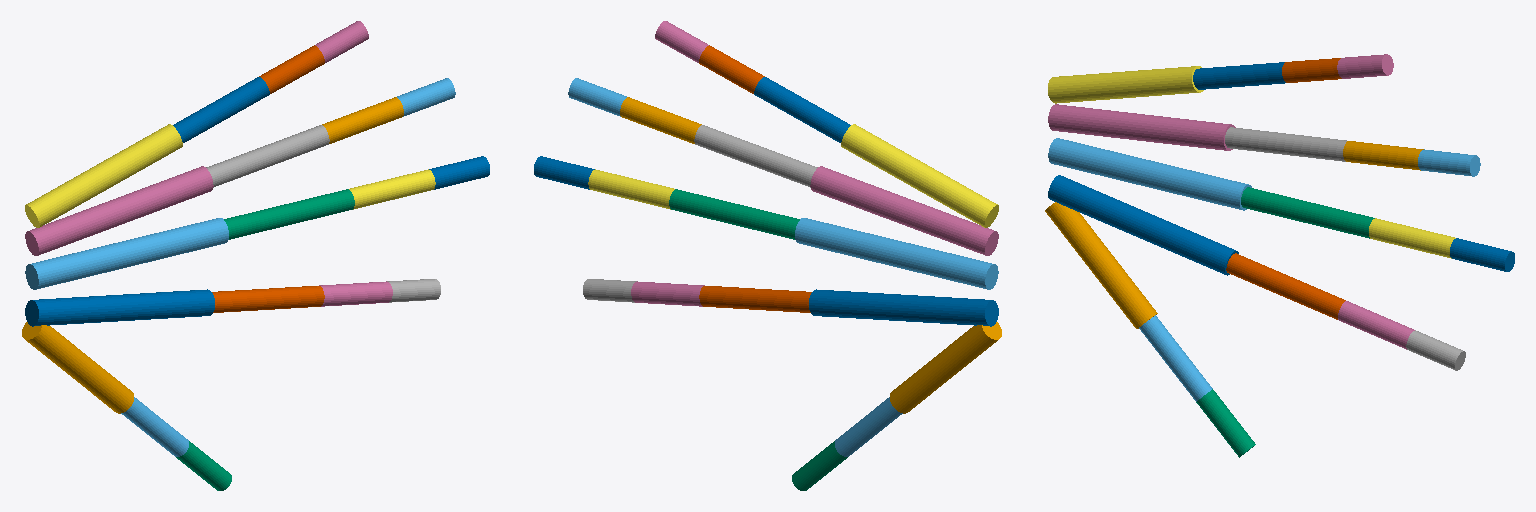
robot.urdf — v6_1_palm_skeleton:
<robot name="v6_1_palm_skeleton">
  <link name="link_0_0">
    <inertial>
      <origin xyz="0.0 1.5544763013660075e-19 0.0175" rpy="0 0 0" />
      <mass value="0.016584660957464963" />
      <inertia ixx="3.7047370331850545e-06" ixy="-9.478111185503441e-25" ixz="7.582488948402753e-24" iyy="3.7047370331850545e-06" iyz="2.9950831346190885e-23" izz="7.782522108814911e-07" />
    </inertial>
  </link>
  <link name="link_palm">
    <inertial>
      <origin xyz="0.0 0.0 0.028999999999999998" rpy="0 0 0" />
      <mass value="0.05103999624967584" />
      <inertia ixx="1.600954459083169e-05" ixy="0.0" ixz="0.0" iyy="2.1113543987632717e-05" iyz="-2.426396463488881e-22" izz="8.50666566133504e-06" />
    </inertial>
  </link>
  <joint name="link_0_0_to_link_palm" type="fixed">
    <parent link="link_0_0" />
    <child link="link_palm" />
    <origin xyz="0.0 0.0 0.0" rpy="0.0 0.0 0.0" />
  </joint>
  <link name="diagnostic_world">
    <inertial>
      <mass value="0.05" />
      <inertia ixx="0.00001" iyy="0.00001" izz="0.00001" ixy="0" ixz="0" iyz="0" />
    </inertial>
  </link>
  <link name="diagnostic_stage_x">
    <inertial>
      <mass value="0.05" />
      <inertia ixx="0.00001" iyy="0.00001" izz="0.00001" ixy="0" ixz="0" iyz="0" />
    </inertial>
  </link>
  <link name="diagnostic_stage_y">
    <inertial>
      <mass value="0.05" />
      <inertia ixx="0.00001" iyy="0.00001" izz="0.00001" ixy="0" ixz="0" iyz="0" />
    </inertial>
  </link>
  <joint name="diagnostic_wrist_x" type="prismatic">
    <parent link="diagnostic_world" />
    <child link="diagnostic_stage_x" />
    <origin xyz="0 0 0" rpy="0 0 0" />
    <axis xyz="1 0 0" />
    <limit lower="-0.25" upper="0.25" effort="100" velocity="0.02" />
  </joint>
  <joint name="diagnostic_wrist_y" type="prismatic">
    <parent link="diagnostic_stage_x" />
    <child link="diagnostic_stage_y" />
    <origin xyz="0 0 0" rpy="0 0 0" />
    <axis xyz="0 1 0" />
    <limit lower="-0.25" upper="0.25" effort="100" velocity="0.02" />
  </joint>
  <joint name="diagnostic_wrist_z" type="prismatic">
    <parent link="diagnostic_stage_y" />
    <child link="wrist_translation_end" />
    <origin xyz="0 0 0" rpy="0 0 0" />
    <axis xyz="0 0 1" />
    <limit lower="-0.25" upper="0.25" effort="100" velocity="0.02" />
  </joint>
  <link name="wrist_translation_end">
    <inertial>
      <mass value=".02" />
      <inertia ixx="8e-7" iyy="8e-7" izz="8e-7" ixy="0" ixz="0" iyz="0" />
    </inertial>
  </link>
  <link name="wrist_roll_link">
    <inertial>
      <mass value=".02" />
      <inertia ixx="8e-7" iyy="8e-7" izz="8e-7" ixy="0" ixz="0" iyz="0" />
    </inertial>
  </link>
  <link name="wrist_pitch_link">
    <inertial>
      <mass value=".02" />
      <inertia ixx="8e-7" iyy="8e-7" izz="8e-7" ixy="0" ixz="0" iyz="0" />
    </inertial>
  </link>
  <joint name="wrist_roll" type="revolute">
    <parent link="wrist_translation_end" />
    <child link="wrist_roll_link" />
    <origin xyz="0 0 0" rpy="0 0 0" />
    <axis xyz="1 0 0" />
    <limit lower="-3.141592653589793" upper="3.141592653589793" effort="2" velocity="1" />
  </joint>
  <joint name="wrist_pitch" type="revolute">
    <parent link="wrist_roll_link" />
    <child link="wrist_pitch_link" />
    <origin xyz="0 0 0" rpy="0 0 0" />
    <axis xyz="0 1 0" />
    <limit lower="-3.141592653589793" upper="3.141592653589793" effort="2" velocity="1" />
  </joint>
  <joint name="wrist_yaw" type="revolute">
    <parent link="wrist_pitch_link" />
    <child link="link_0_0" />
    <origin xyz="0 0 0" rpy="0 0 0" />
    <axis xyz="0 0 1" />
    <limit lower="-3.141592653589793" upper="3.141592653589793" effort="2" velocity="1" />
  </joint>
  <link name="link_1_0">
    <inertial>
      <origin xyz="0 0 0.0225" rpy="0 0 0" />
      <mass value="0.0024881392799999996" />
      <inertia ixx="4.298260606199999e-07" iyy="4.298260606199999e-07" izz="1.9905114239999995e-08" ixy="0" ixz="0" iyz="0" />
    </inertial>
    <visual>
      <origin xyz="0 0 0.0225" rpy="0 0 0" />
      <geometry>
        <cylinder length="0.045" radius="0.004" />
      </geometry>
    </visual>
    <collision>
      <origin xyz="0 0 0.0225" rpy="0 0 0" />
      <geometry>
        <cylinder length="0.045" radius="0.004" />
      </geometry>
    </collision>
  </link>
  <joint name="arch_1" type="revolute">
    <parent link="link_palm" />
    <child link="link_1_0" />
    <origin xyz="-0.012 0 -0.011" rpy="0 2.356194490192345 0" />
    <axis xyz="-0.7071067811865475 0 0.7071067811865476" /><limit lower="-.16" upper=".72" effort="1" velocity="3" /></joint>
  <link name="link_1_1">
    <inertial>
      <origin xyz="0 0 0.014" rpy="0 0 0" />
      <mass value="0.0009908323532800002" />
      <inertia ixx="6.727091123869015e-08" iyy="6.727091123869015e-08" izz="5.073061648793601e-09" ixy="0" ixz="0" iyz="0" />
    </inertial>
    <visual>
      <origin xyz="0 0 0.014" rpy="0 0 0" />
      <geometry>
        <cylinder length="0.028" radius="0.0032" />
      </geometry>
    </visual>
    <collision>
      <origin xyz="0 0 0.014" rpy="0 0 0" />
      <geometry>
        <cylinder length="0.028" radius="0.0032" />
      </geometry>
    </collision>
  </link>
  <joint name="digit_1_flex_1" type="revolute">
    <parent link="link_1_0" />
    <child link="link_1_1" />
    <origin xyz="0 0 0.045" rpy="0 0 0" />
    <axis xyz="1 0 0" />
    <limit lower="0" upper="1.5" effort="0.8" velocity="2" />
  </joint>
  <link name="link_1_2">
    <inertial>
      <origin xyz="0 0 0.0105" rpy="0 0 0" />
      <mass value="0.0007431242649600001" />
      <inertia ixx="2.9212214855577606e-08" iyy="2.9212214855577606e-08" izz="3.8047962365952e-09" ixy="0" ixz="0" iyz="0" />
    </inertial>
    <visual>
      <origin xyz="0 0 0.0105" rpy="0 0 0" />
      <geometry>
        <cylinder length="0.021" radius="0.0032" />
      </geometry>
    </visual>
    <collision>
      <origin xyz="0 0 0.0105" rpy="0 0 0" />
      <geometry>
        <cylinder length="0.021" radius="0.0032" />
      </geometry>
    </collision>
  </link>
  <joint name="digit_1_flex_2" type="revolute">
    <parent link="link_1_1" />
    <child link="link_1_2" />
    <origin xyz="0 0 0.028" rpy="0 0 0" />
    <axis xyz="1 0 0" />
    <limit lower="0" upper="1.5" effort="0.8" velocity="2" />
  </joint>
  <link name="tip_1" />
  <joint name="tip_1_marker" type="fixed">
    <parent link="link_1_2" />
    <child link="tip_1" />
    <origin xyz="0 0 0.021" rpy="0 0 0" />
  </joint>
  <link name="link_2_0">
    <inertial>
      <origin xyz="0 0 0.031" rpy="0 0 0" />
      <mass value="0.0034281030079999996" />
      <inertia ixx="1.1118480755946664e-06" iyy="1.1118480755946664e-06" izz="2.7424824063999996e-08" ixy="0" ixz="0" iyz="0" />
    </inertial>
    <visual>
      <origin xyz="0 0 0.031" rpy="0 0 0" />
      <geometry>
        <cylinder length="0.062" radius="0.004" />
      </geometry>
    </visual>
    <collision>
      <origin xyz="0 0 0.031" rpy="0 0 0" />
      <geometry>
        <cylinder length="0.062" radius="0.004" />
      </geometry>
    </collision>
  </link>
  <joint name="arch_2" type="revolute">
    <parent link="link_palm" />
    <child link="link_2_0" />
    <origin xyz="-0.012 0 -0.006" rpy="0 1.7453292519943295 0" />
  <axis xyz="-0.3420201433256687 0 0.9396926207859084" /><limit lower="-.16" upper=".72" effort="1" velocity="3" /></joint>
  <link name="link_2_1">
    <inertial>
      <origin xyz="0 0 0.0195" rpy="0 0 0" />
      <mass value="0.0013800879206400001" />
      <inertia ixx="1.7845916901795842e-07" iyy="1.7845916901795842e-07" izz="7.066050153676801e-09" ixy="0" ixz="0" iyz="0" />
    </inertial>
    <visual>
      <origin xyz="0 0 0.0195" rpy="0 0 0" />
      <geometry>
        <cylinder length="0.039" radius="0.0032" />
      </geometry>
    </visual>
    <collision>
      <origin xyz="0 0 0.0195" rpy="0 0 0" />
      <geometry>
        <cylinder length="0.039" radius="0.0032" />
      </geometry>
    </collision>
  </link>
  <joint name="digit_2_flex_1" type="revolute">
    <parent link="link_2_0" />
    <child link="link_2_1" />
    <origin xyz="0 0 0.062" rpy="0 0 0" />
    <axis xyz="1 0 0" />
    <limit lower="0" upper="1.5" effort="0.8" velocity="2" />
  </joint>
  <link name="link_2_2">
    <inertial>
      <origin xyz="0 0 0.012" rpy="0 0 0" />
      <mass value="0.00084928487424" />
      <inertia ixx="4.2939843241574404e-08" iyy="4.2939843241574404e-08" izz="4.3483385561088e-09" ixy="0" ixz="0" iyz="0" />
    </inertial>
    <visual>
      <origin xyz="0 0 0.012" rpy="0 0 0" />
      <geometry>
        <cylinder length="0.024" radius="0.0032" />
      </geometry>
    </visual>
    <collision>
      <origin xyz="0 0 0.012" rpy="0 0 0" />
      <geometry>
        <cylinder length="0.024" radius="0.0032" />
      </geometry>
    </collision>
  </link>
  <joint name="digit_2_flex_2" type="revolute">
    <parent link="link_2_1" />
    <child link="link_2_2" />
    <origin xyz="0 0 0.039" rpy="0 0 0" />
    <axis xyz="1 0 0" />
    <limit lower="0" upper="1.5" effort="0.8" velocity="2" />
  </joint>
  <link name="link_2_3">
    <inertial>
      <origin xyz="0 0 0.0085" rpy="0 0 0" />
      <mass value="0.00060157678592" />
      <inertia ixx="1.6028010832861867e-08" iyy="1.6028010832861867e-08" izz="3.0800731439104e-09" ixy="0" ixz="0" iyz="0" />
    </inertial>
    <visual>
      <origin xyz="0 0 0.0085" rpy="0 0 0" />
      <geometry>
        <cylinder length="0.017" radius="0.0032" />
      </geometry>
    </visual>
    <collision>
      <origin xyz="0 0 0.0085" rpy="0 0 0" />
      <geometry>
        <cylinder length="0.017" radius="0.0032" />
      </geometry>
    </collision>
  </link>
  <joint name="digit_2_flex_3" type="revolute">
    <parent link="link_2_2" />
    <child link="link_2_3" />
    <origin xyz="0 0 0.024" rpy="0 0 0" />
    <axis xyz="1 0 0" />
    <limit lower="0" upper="1.5" effort="0.8" velocity="2" />
  </joint>
  <link name="tip_2" />
  <joint name="tip_2_marker" type="fixed">
    <parent link="link_2_3" />
    <child link="tip_2" />
    <origin xyz="0 0 0.017" rpy="0 0 0" />
  </joint>
  <link name="link_3_0">
    <inertial>
      <origin xyz="0 0 0.033" rpy="0 0 0" />
      <mass value="0.0036492709439999997" />
      <inertia ixx="1.3392824364480002e-06" iyy="1.3392824364480002e-06" izz="2.9194167551999997e-08" ixy="0" ixz="0" iyz="0" />
    </inertial>
    <visual>
      <origin xyz="0 0 0.033" rpy="0 0 0" />
      <geometry>
        <cylinder length="0.066" radius="0.004" />
      </geometry>
    </visual>
    <collision>
      <origin xyz="0 0 0.033" rpy="0 0 0" />
      <geometry>
        <cylinder length="0.066" radius="0.004" />
      </geometry>
    </collision>
  </link>
  <joint name="arch_3" type="revolute">
    <parent link="link_palm" />
    <child link="link_3_0" />
    <origin xyz="-0.012 0 0.006" rpy="0 1.5707963267948966 0" />
  <axis xyz="-0.30901699437494734 0 0.9510565162951536" /><limit lower="-.16" upper=".72" effort="1" velocity="3" /></joint>
  <link name="link_3_1">
    <inertial>
      <origin xyz="0 0 0.022" rpy="0 0 0" />
      <mass value="0.00155702226944" />
      <inertia ixx="2.5518556981275307e-07" iyy="2.5518556981275307e-07" izz="7.9719540195328e-09" ixy="0" ixz="0" iyz="0" />
    </inertial>
    <visual>
      <origin xyz="0 0 0.022" rpy="0 0 0" />
      <geometry>
        <cylinder length="0.044" radius="0.0032" />
      </geometry>
    </visual>
    <collision>
      <origin xyz="0 0 0.022" rpy="0 0 0" />
      <geometry>
        <cylinder length="0.044" radius="0.0032" />
      </geometry>
    </collision>
  </link>
  <joint name="digit_3_flex_1" type="revolute">
    <parent link="link_3_0" />
    <child link="link_3_1" />
    <origin xyz="0 0 0.066" rpy="0 0 0" />
    <axis xyz="1 0 0" />
    <limit lower="0" upper="1.5" effort="0.8" velocity="2" />
  </joint>
  <link name="link_3_2">
    <inertial>
      <origin xyz="0 0 0.014" rpy="0 0 0" />
      <mass value="0.0009908323532800002" />
      <inertia ixx="6.727091123869015e-08" iyy="6.727091123869015e-08" izz="5.073061648793601e-09" ixy="0" ixz="0" iyz="0" />
    </inertial>
    <visual>
      <origin xyz="0 0 0.014" rpy="0 0 0" />
      <geometry>
        <cylinder length="0.028" radius="0.0032" />
      </geometry>
    </visual>
    <collision>
      <origin xyz="0 0 0.014" rpy="0 0 0" />
      <geometry>
        <cylinder length="0.028" radius="0.0032" />
      </geometry>
    </collision>
  </link>
  <joint name="digit_3_flex_2" type="revolute">
    <parent link="link_3_1" />
    <child link="link_3_2" />
    <origin xyz="0 0 0.044" rpy="0 0 0" />
    <axis xyz="1 0 0" />
    <limit lower="0" upper="1.5" effort="0.8" velocity="2" />
  </joint>
  <link name="link_3_3">
    <inertial>
      <origin xyz="0 0 0.0095" rpy="0 0 0" />
      <mass value="0.00067235052544" />
      <inertia ixx="2.1947762318779737e-08" iyy="2.1947762318779737e-08" izz="3.4424346902528e-09" ixy="0" ixz="0" iyz="0" />
    </inertial>
    <visual>
      <origin xyz="0 0 0.0095" rpy="0 0 0" />
      <geometry>
        <cylinder length="0.019" radius="0.0032" />
      </geometry>
    </visual>
    <collision>
      <origin xyz="0 0 0.0095" rpy="0 0 0" />
      <geometry>
        <cylinder length="0.019" radius="0.0032" />
      </geometry>
    </collision>
  </link>
  <joint name="digit_3_flex_3" type="revolute">
    <parent link="link_3_2" />
    <child link="link_3_3" />
    <origin xyz="0 0 0.028" rpy="0 0 0" />
    <axis xyz="1 0 0" />
    <limit lower="0" upper="1.5" effort="0.8" velocity="2" />
  </joint>
  <link name="tip_3" />
  <joint name="tip_3_marker" type="fixed">
    <parent link="link_3_3" />
    <child link="tip_3" />
    <origin xyz="0 0 0.019" rpy="0 0 0" />
  </joint>
  <link name="link_4_0">
    <inertial>
      <origin xyz="0 0 0.0305" rpy="0 0 0" />
      <mass value="0.0033728110239999998" />
      <inertia ixx="1.0593437291213333e-06" iyy="1.0593437291213333e-06" izz="2.6982488191999995e-08" ixy="0" ixz="0" iyz="0" />
    </inertial>
    <visual>
      <origin xyz="0 0 0.0305" rpy="0 0 0" />
      <geometry>
        <cylinder length="0.061" radius="0.004" />
      </geometry>
    </visual>
    <collision>
      <origin xyz="0 0 0.0305" rpy="0 0 0" />
      <geometry>
        <cylinder length="0.061" radius="0.004" />
      </geometry>
    </collision>
  </link>
  <joint name="arch_4" type="revolute">
    <parent link="link_palm" />
    <child link="link_4_0" />
    <origin xyz="-0.012 0 0.017" rpy="0 1.4486232791552935 0" />
    <axis xyz="-0.35836794954530027 0 0.9335804264972017" /><limit lower="-.16" upper=".72" effort="1" velocity="3" /></joint>
  <link name="link_4_1">
    <inertial>
      <origin xyz="0 0 0.0205" rpy="0 0 0" />
      <mass value="0.0014508616601600001" />
      <inertia ixx="2.069557434107563e-07" iyy="2.069557434107563e-07" izz="7.428411700019201e-09" ixy="0" ixz="0" iyz="0" />
    </inertial>
    <visual>
      <origin xyz="0 0 0.0205" rpy="0 0 0" />
      <geometry>
        <cylinder length="0.041" radius="0.0032" />
      </geometry>
    </visual>
    <collision>
      <origin xyz="0 0 0.0205" rpy="0 0 0" />
      <geometry>
        <cylinder length="0.041" radius="0.0032" />
      </geometry>
    </collision>
  </link>
  <joint name="digit_4_flex_1" type="revolute">
    <parent link="link_4_0" />
    <child link="link_4_1" />
    <origin xyz="0 0 0.061" rpy="0 0 0" />
    <axis xyz="1 0 0" />
    <limit lower="0" upper="1.5" effort="0.8" velocity="2" />
  </joint>
  <link name="link_4_2">
    <inertial>
      <origin xyz="0 0 0.013" rpy="0 0 0" />
      <mass value="0.00092005861376" />
      <inertia ixx="5.418531862637226e-08" iyy="5.418531862637226e-08" izz="4.7107001024512e-09" ixy="0" ixz="0" iyz="0" />
    </inertial>
    <visual>
      <origin xyz="0 0 0.013" rpy="0 0 0" />
      <geometry>
        <cylinder length="0.026" radius="0.0032" />
      </geometry>
    </visual>
    <collision>
      <origin xyz="0 0 0.013" rpy="0 0 0" />
      <geometry>
        <cylinder length="0.026" radius="0.0032" />
      </geometry>
    </collision>
  </link>
  <joint name="digit_4_flex_2" type="revolute">
    <parent link="link_4_1" />
    <child link="link_4_2" />
    <origin xyz="0 0 0.041" rpy="0 0 0" />
    <axis xyz="1 0 0" />
    <limit lower="0" upper="1.5" effort="0.8" velocity="2" />
  </joint>
  <link name="link_4_3">
    <inertial>
      <origin xyz="0 0 0.009" rpy="0 0 0" />
      <mass value="0.00063696365568" />
      <inertia ixx="1.8828645661900803e-08" iyy="1.8828645661900803e-08" izz="3.2612539170816003e-09" ixy="0" ixz="0" iyz="0" />
    </inertial>
    <visual>
      <origin xyz="0 0 0.009" rpy="0 0 0" />
      <geometry>
        <cylinder length="0.018" radius="0.0032" />
      </geometry>
    </visual>
    <collision>
      <origin xyz="0 0 0.009" rpy="0 0 0" />
      <geometry>
        <cylinder length="0.018" radius="0.0032" />
      </geometry>
    </collision>
  </link>
  <joint name="digit_4_flex_3" type="revolute">
    <parent link="link_4_2" />
    <child link="link_4_3" />
    <origin xyz="0 0 0.026" rpy="0 0 0" />
    <axis xyz="1 0 0" />
    <limit lower="0" upper="1.5" effort="0.8" velocity="2" />
  </joint>
  <link name="tip_4" />
  <joint name="tip_4_marker" type="fixed">
    <parent link="link_4_3" />
    <child link="tip_4" />
    <origin xyz="0 0 0.018" rpy="0 0 0" />
  </joint>
  <link name="link_5_0">
    <inertial>
      <origin xyz="0 0 0.026" rpy="0 0 0" />
      <mass value="0.0028751831679999997" />
      <inertia ixx="6.593753398613331e-07" iyy="6.593753398613331e-07" izz="2.3001465343999996e-08" ixy="0" ixz="0" iyz="0" />
    </inertial>
    <visual>
      <origin xyz="0 0 0.026" rpy="0 0 0" />
      <geometry>
        <cylinder length="0.052" radius="0.004" />
      </geometry>
    </visual>
    <collision>
      <origin xyz="0 0 0.026" rpy="0 0 0" />
      <geometry>
        <cylinder length="0.052" radius="0.004" />
      </geometry>
    </collision>
  </link>
  <joint name="arch_5" type="revolute">
    <parent link="link_palm" />
    <child link="link_5_0" />
    <origin xyz="-0.012 0 0.026" rpy="0 1.2740903539558606 0" />
    <axis xyz="-0.4383711467890775 0 0.8987940462991669" /><limit lower="-.16" upper=".72" effort="1" velocity="3" /></joint>
  <link name="link_5_1">
    <inertial>
      <origin xyz="0 0 0.016" rpy="0 0 0" />
      <mass value="0.00113237983232" />
      <inertia ixx="9.952863806204587e-08" iyy="9.952863806204587e-08" izz="5.7977847414784e-09" ixy="0" ixz="0" iyz="0" />
    </inertial>
    <visual>
      <origin xyz="0 0 0.016" rpy="0 0 0" />
      <geometry>
        <cylinder length="0.032" radius="0.0032" />
      </geometry>
    </visual>
    <collision>
      <origin xyz="0 0 0.016" rpy="0 0 0" />
      <geometry>
        <cylinder length="0.032" radius="0.0032" />
      </geometry>
    </collision>
  </link>
  <joint name="digit_5_flex_1" type="revolute">
    <parent link="link_5_0" />
    <child link="link_5_1" />
    <origin xyz="0 0 0.052" rpy="0 0 0" />
    <axis xyz="1 0 0" />
    <limit lower="0" upper="1.5" effort="0.8" velocity="2" />
  </joint>
  <link name="link_5_2">
    <inertial>
      <origin xyz="0 0 0.01" rpy="0 0 0" />
      <mass value="0.0007077373952000001" />
      <inertia ixx="2.540305423837867e-08" iyy="2.540305423837867e-08" izz="3.6236154634240004e-09" ixy="0" ixz="0" iyz="0" />
    </inertial>
    <visual>
      <origin xyz="0 0 0.01" rpy="0 0 0" />
      <geometry>
        <cylinder length="0.02" radius="0.0032" />
      </geometry>
    </visual>
    <collision>
      <origin xyz="0 0 0.01" rpy="0 0 0" />
      <geometry>
        <cylinder length="0.02" radius="0.0032" />
      </geometry>
    </collision>
  </link>
  <joint name="digit_5_flex_2" type="revolute">
    <parent link="link_5_1" />
    <child link="link_5_2" />
    <origin xyz="0 0 0.032" rpy="0 0 0" />
    <axis xyz="1 0 0" />
    <limit lower="0" upper="1.5" effort="0.8" velocity="2" />
  </joint>
  <link name="link_5_3">
    <inertial>
      <origin xyz="0 0 0.008" rpy="0 0 0" />
      <mass value="0.00056618991616" />
      <inertia ixx="1.352816439678293e-08" iyy="1.352816439678293e-08" izz="2.8988923707392e-09" ixy="0" ixz="0" iyz="0" />
    </inertial>
    <visual>
      <origin xyz="0 0 0.008" rpy="0 0 0" />
      <geometry>
        <cylinder length="0.016" radius="0.0032" />
      </geometry>
    </visual>
    <collision>
      <origin xyz="0 0 0.008" rpy="0 0 0" />
      <geometry>
        <cylinder length="0.016" radius="0.0032" />
      </geometry>
    </collision>
  </link>
  <joint name="digit_5_flex_3" type="revolute">
    <parent link="link_5_2" />
    <child link="link_5_3" />
    <origin xyz="0 0 0.02" rpy="0 0 0" />
    <axis xyz="1 0 0" />
    <limit lower="0" upper="1.5" effort="0.8" velocity="2" />
  </joint>
  <link name="tip_5" />
  <joint name="tip_5_marker" type="fixed">
    <parent link="link_5_3" />
    <child link="tip_5" />
    <origin xyz="0 0 0.016" rpy="0 0 0" />
  </joint>
</robot>

--- Render facts (derived) ---
3 views of the same robot in one strip: view 1: azimuth 30°, elevation 25°; view 2: azimuth 150°, elevation 25°; view 3: azimuth 330°, elevation 25° (orthographic).
Model v6_1_palm_skeleton with 32 links and 31 joints (22 revolute, 3 prismatic, 6 fixed), rooted at diagnostic_world, posed every joint at zero.
Links seen in each view (by area): view 1: link_3_0, link_4_0, link_2_0, link_5_0, link_1_0, link_3_1, link_4_1, link_2_1, link_5_1, link_3_2, link_4_2, link_1_1 (+7 smaller); view 2: link_3_0, link_4_0, link_2_0, link_5_0, link_1_0, link_3_1, link_4_1, link_2_1, link_5_1, link_3_2, link_4_2, link_1_1 (+7 smaller); view 3: link_3_0, link_2_0, link_4_0, link_5_0, link_1_0, link_3_1, link_2_1, link_4_1, link_1_1, link_5_1, link_3_2, link_4_2 (+7 smaller).
Link boxes in pixels (x1=…): link_3_0: x1=25, y1=218, x2=228, y2=289; link_4_0: x1=25, y1=166, x2=213, y2=255; link_2_0: x1=25, y1=289, x2=214, y2=326; link_5_0: x1=25, y1=124, x2=182, y2=227; link_1_0: x1=22, y1=322, x2=133, y2=413; link_3_1: x1=224, y1=189, x2=354, y2=239; link_4_1: x1=206, y1=125, x2=329, y2=187; link_2_1: x1=212, y1=286, x2=324, y2=312; link_5_1: x1=173, y1=77, x2=269, y2=142; link_3_2: x1=349, y1=169, x2=435, y2=209; link_4_2: x1=322, y1=97, x2=403, y2=143; link_1_1: x1=121, y1=397, x2=188, y2=456; link_3_0: x1=795, y1=218, x2=998, y2=289; link_4_0: x1=810, y1=166, x2=998, y2=255; link_2_0: x1=809, y1=289, x2=998, y2=326; link_5_0: x1=841, y1=124, x2=998, y2=227; link_1_0: x1=890, y1=322, x2=1001, y2=413; link_3_1: x1=669, y1=189, x2=799, y2=239; link_4_1: x1=694, y1=125, x2=817, y2=187; link_2_1: x1=699, y1=286, x2=811, y2=312; link_5_1: x1=754, y1=77, x2=850, y2=142; link_3_2: x1=588, y1=169, x2=674, y2=209; link_4_2: x1=620, y1=97, x2=701, y2=143; link_1_1: x1=835, y1=397, x2=902, y2=456; link_3_0: x1=1048, y1=138, x2=1251, y2=210; link_2_0: x1=1048, y1=175, x2=1238, y2=275; link_4_0: x1=1048, y1=104, x2=1235, y2=150; link_5_0: x1=1048, y1=66, x2=1203, y2=103; link_1_0: x1=1045, y1=202, x2=1157, y2=328; link_3_1: x1=1241, y1=187, x2=1374, y2=238; link_2_1: x1=1226, y1=253, x2=1345, y2=319; link_4_1: x1=1225, y1=127, x2=1346, y2=161; link_1_1: x1=1139, y1=315, x2=1212, y2=401; link_5_1: x1=1193, y1=62, x2=1285, y2=89; link_3_2: x1=1369, y1=218, x2=1455, y2=258; link_4_2: x1=1343, y1=141, x2=1423, y2=170.
Bounding box of the posed robot: 0.1598 × 0.008 × 0.1439 m (x, y, z).
Geometry: primitives only (box / cylinder / sphere), no mesh files.
